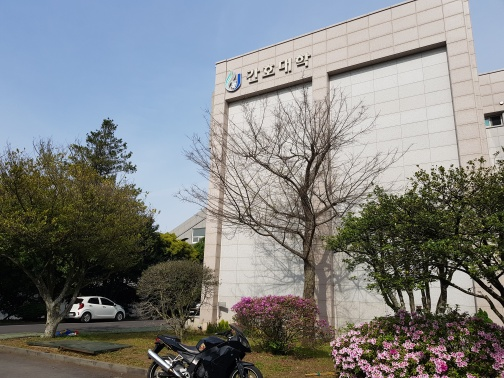College of Nursing: (202, 15, 498, 327), (220, 50, 312, 95)
